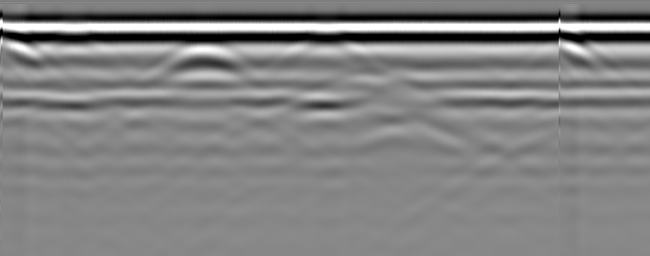pipe: (1, 30, 40, 62)
